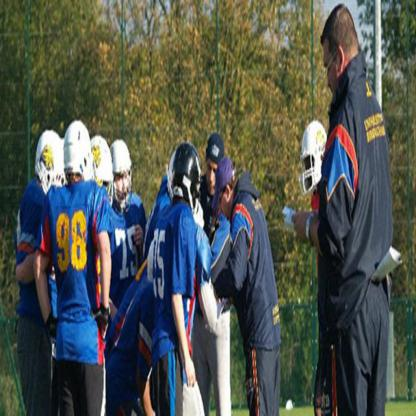face: (323, 46, 339, 98), (116, 166, 130, 206), (218, 187, 233, 220), (305, 156, 317, 191), (208, 158, 219, 195)
